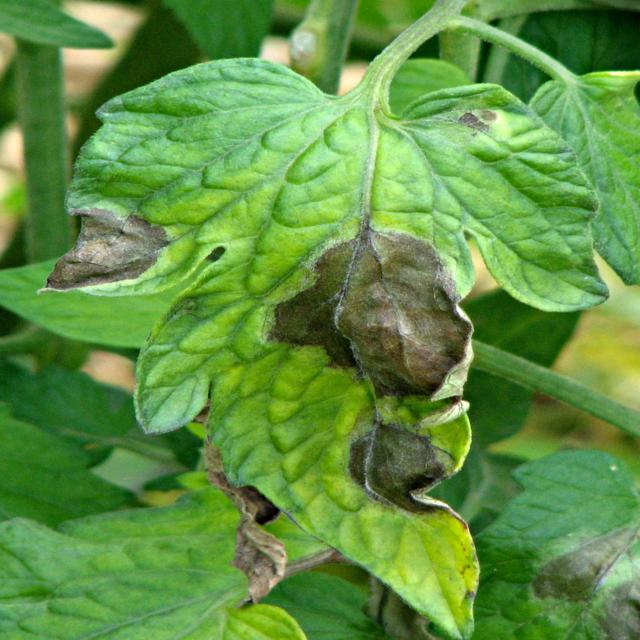Late_blight: (258, 218, 475, 407), (345, 413, 470, 534), (204, 439, 288, 603), (529, 517, 640, 640), (34, 200, 172, 292), (447, 104, 504, 139)
